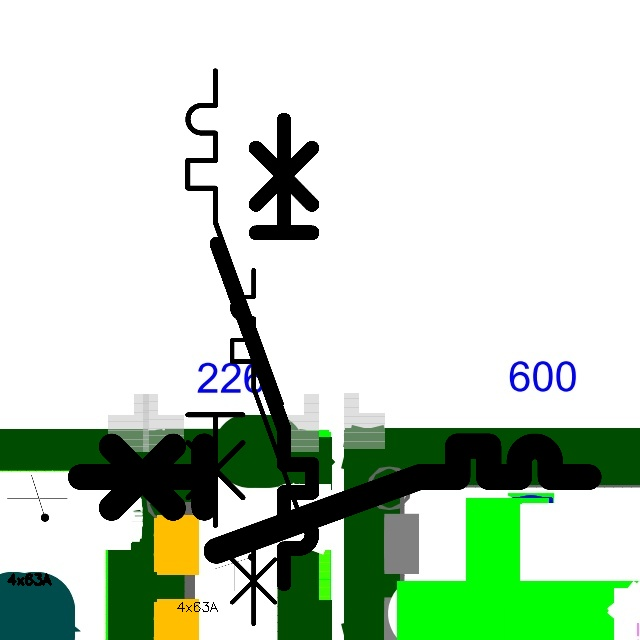interruptor_termomagnetico: (67, 433, 602, 564), (205, 108, 324, 596), (176, 59, 293, 537), (223, 261, 314, 633)
